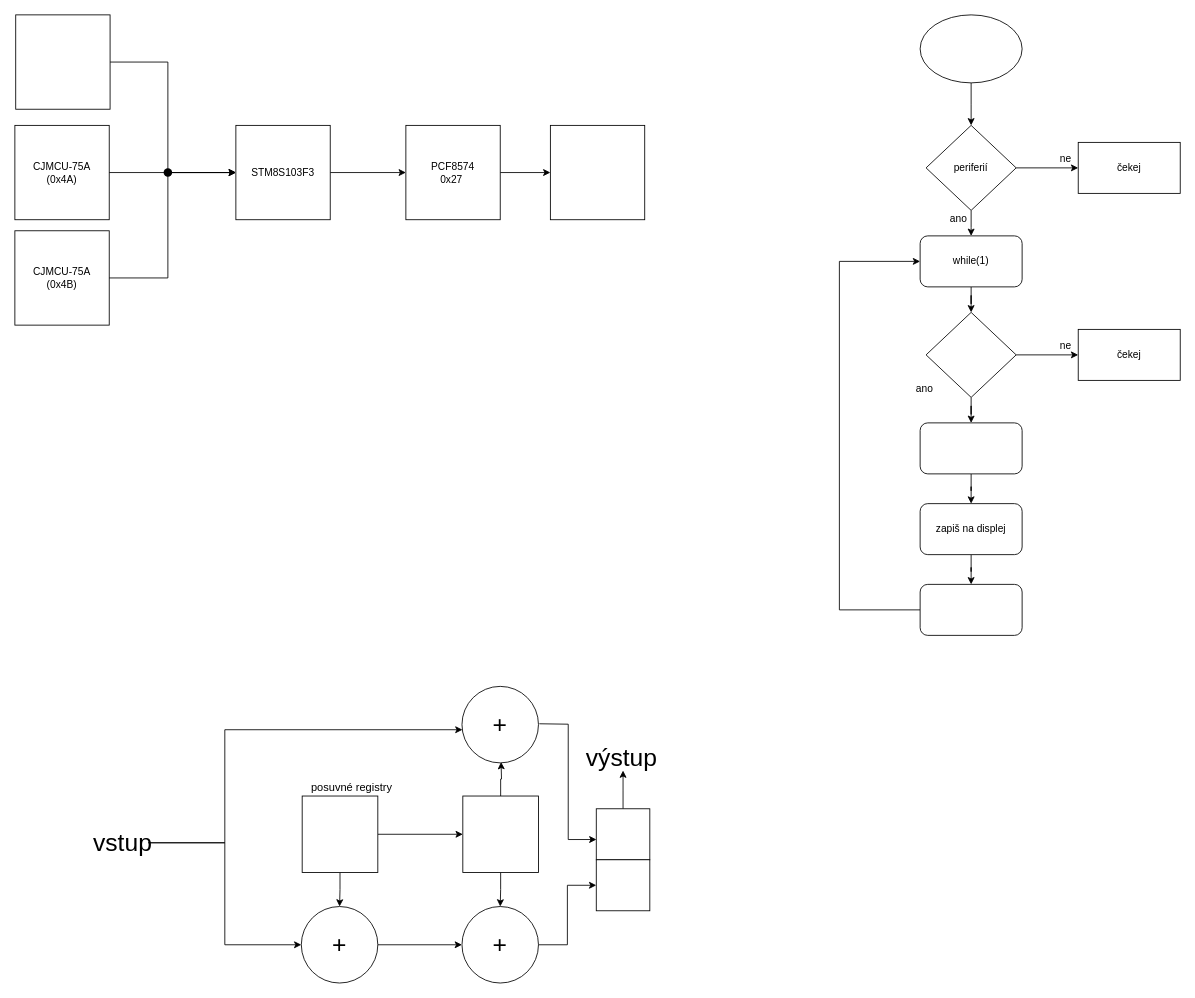
The diagram is 1195 pixels wide and 998 high, and some of its shapes have lost their labels. The centre of each missing label's shape, as x and y in pixels:
bliknutí led: the point at 970,609
CJMCU-75A (0x49): the point at 62,61
int main(): the point at 970,48
LCD 16x2: the point at 597,172
požadavek na aktuální teplotu: the point at 970,448
čas > 3000 ms: the point at 970,354
